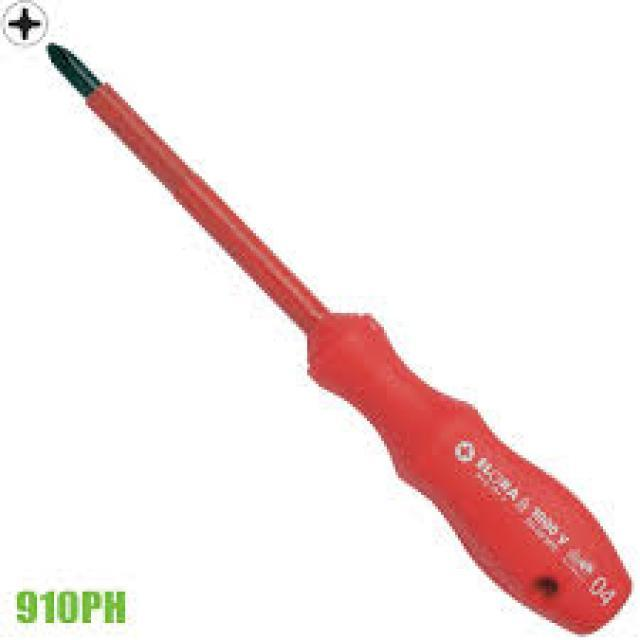screwdriver: (42, 42, 640, 640)
